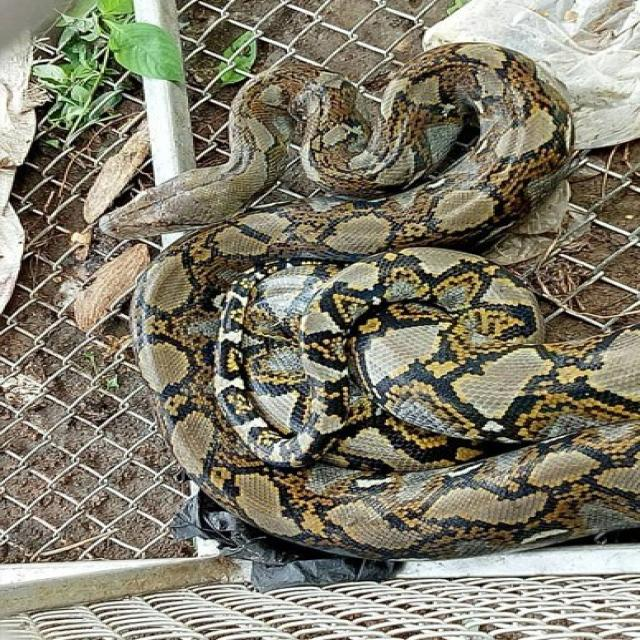Non-Venomous: (56, 167, 259, 239)
